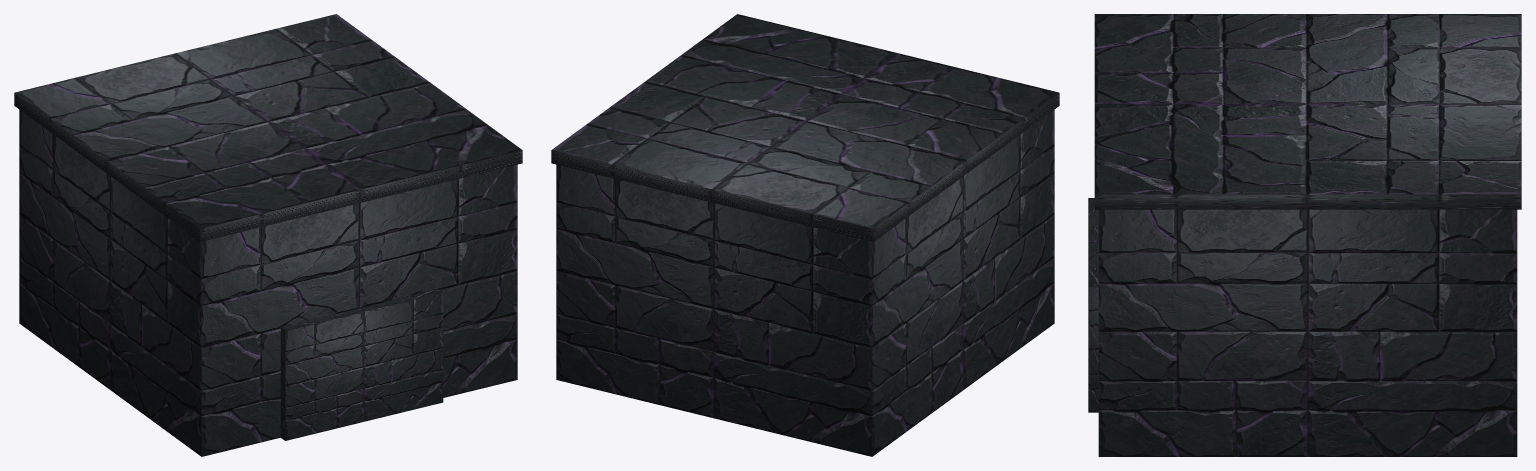
Rendered from landing_dock.obj.
The picture shows the model from 3 angles, left to right: view 1: azimuth 30°, elevation 25°; view 2: azimuth 150°, elevation 25°; view 3: azimuth 270°, elevation 25°; orthographic projection. The views are drawn at different scales.
Parts seen in each view (by area): view 1: building; view 2: building; view 3: building.
Part boxes in pixels (x1=…): building: x1=14, y1=14, x2=522, y2=456; building: x1=551, y1=14, x2=1059, y2=456; building: x1=1088, y1=14, x2=1521, y2=456.
Size of the model in its own units: 3.06 by 2.09 by 3.11.
